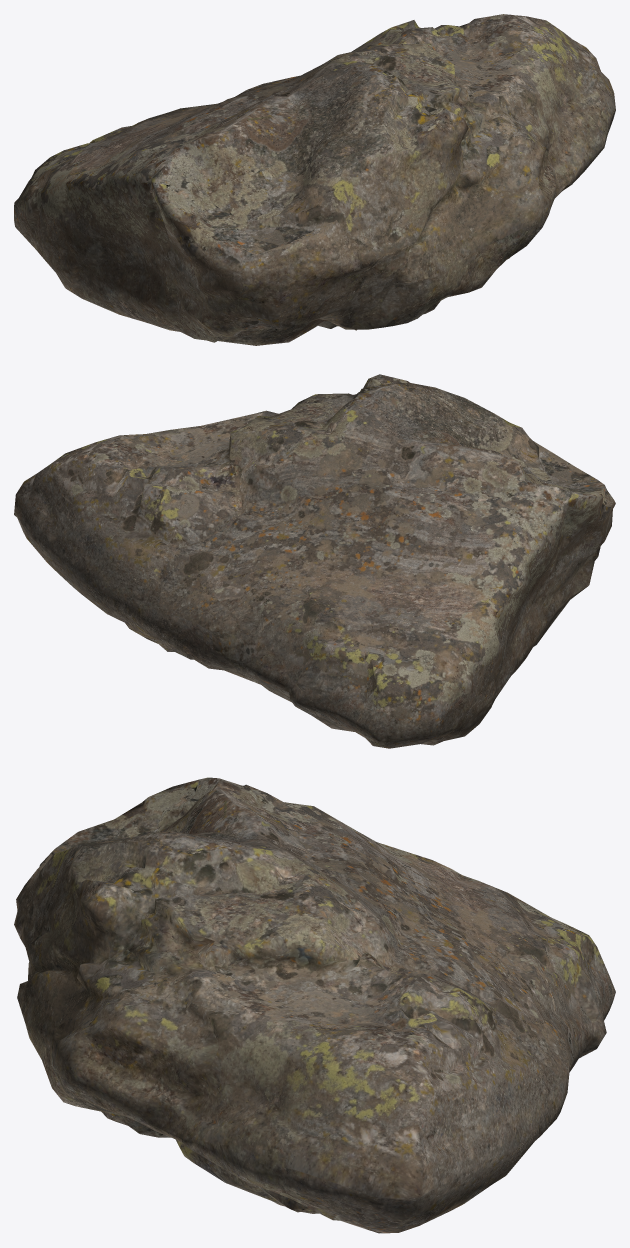
The model's file is SM_whehfcr_tier_2.gltf.
3 renders of one model, top to bottom at view 1: azimuth 30°, elevation 25°; view 2: azimuth 150°, elevation 25°; view 3: azimuth 270°, elevation 25°, orthographic. The views are drawn at different scales.
Visible parts, largest first — view 1: whehfcr_LOD2_TIER2_000; view 2: whehfcr_LOD2_TIER2_000; view 3: whehfcr_LOD2_TIER2_000.
Part boxes in pixels (left/top/right/bottom): whehfcr_LOD2_TIER2_000: left=14, top=14, right=615, bottom=345; whehfcr_LOD2_TIER2_000: left=14, top=374, right=615, bottom=748; whehfcr_LOD2_TIER2_000: left=14, top=777, right=615, bottom=1233.
Bounding box in the file's own units: 0.7643 × 0.3502 × 0.6077.
Materials: 1 (1 with a texture image).
